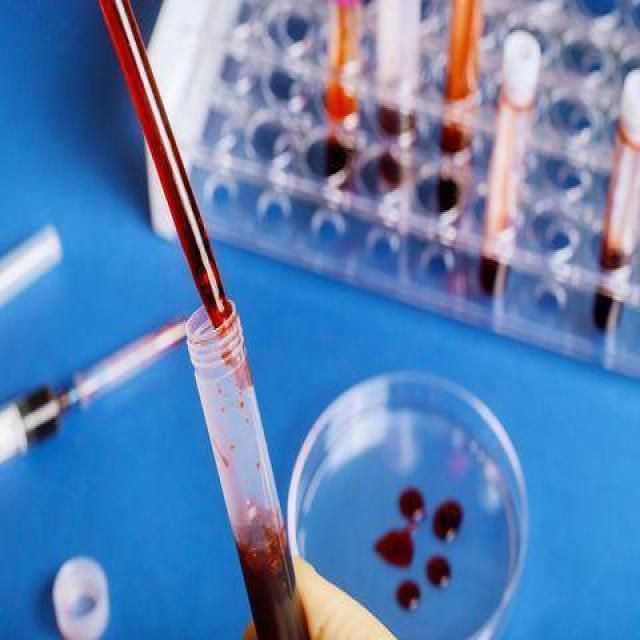flood: (352, 458, 476, 624), (238, 522, 302, 640)
